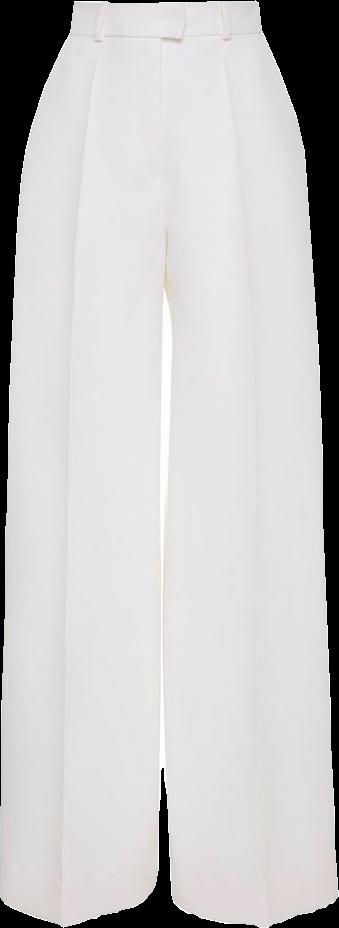Hemline: (0, 881, 157, 926), (167, 892, 338, 927)
Pantleg: (163, 2, 337, 925), (0, 2, 170, 924)
Waistline: (65, 23, 262, 47), (71, 0, 254, 16)
